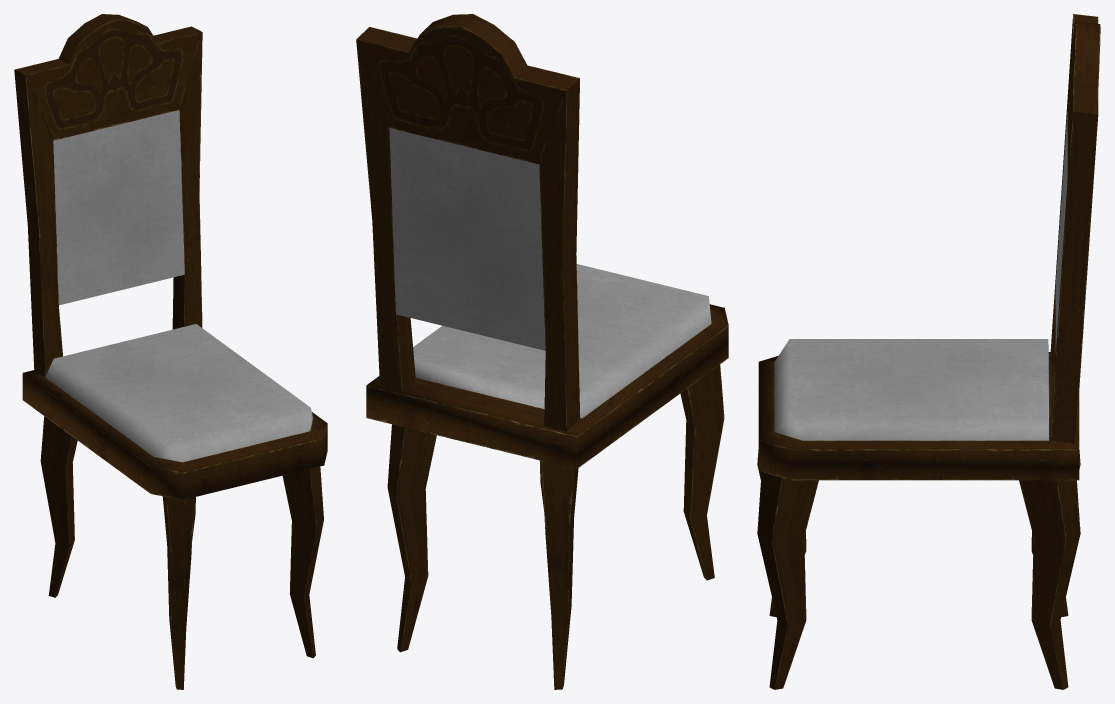
File: fancy_chair.glb
3 views of the same model, side by side, from view 1: azimuth 30°, elevation 25°; view 2: azimuth 150°, elevation 25°; view 3: azimuth 270°, elevation 25° (orthographic). The views are drawn at different scales.
Parts seen in each view (by area): view 1: Chair2__cloth; view 2: Chair2__cloth; view 3: Chair2__cloth.
Boxes of the visible parts, x1,y1,x2,y2 form: Chair2__cloth: (14, 14, 327, 689); Chair2__cloth: (356, 14, 728, 689); Chair2__cloth: (757, 14, 1100, 689).
Bounding box in the file's own units: 0.395 × 1.18 × 0.5874.
2 materials, 2 textured.
